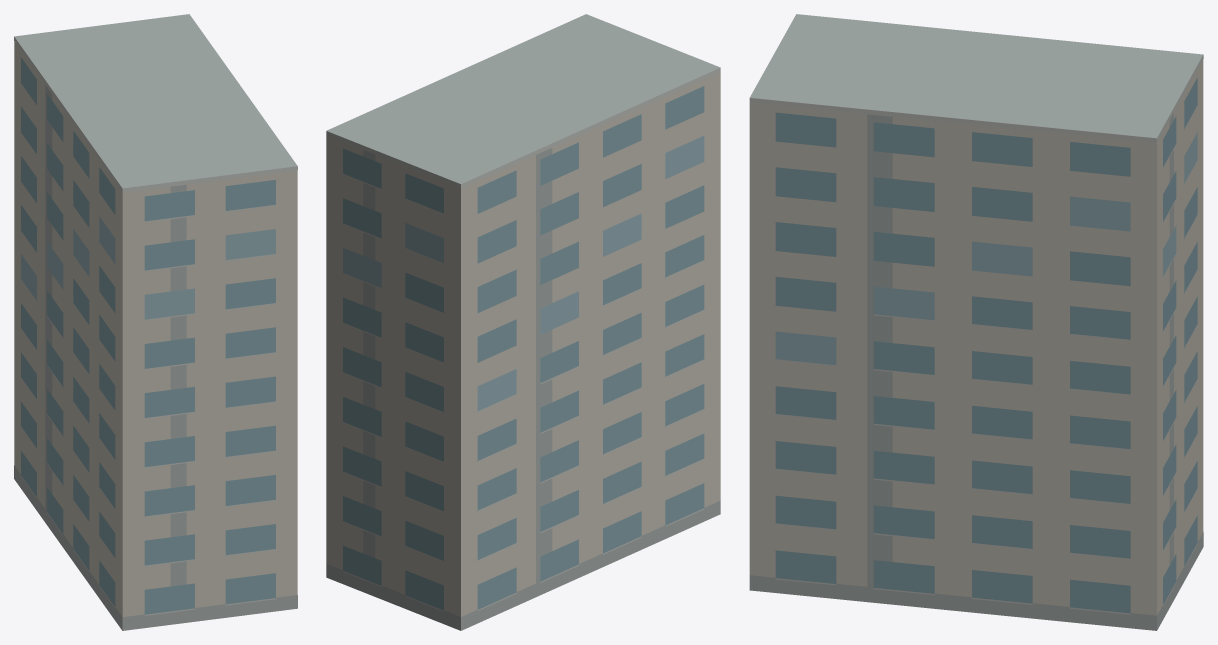
The model's file is residential-ab38fa56-697a-4365-951e-fae3d06828a1.glb.
3 renders of one model, left to right at view 1: azimuth 30°, elevation 25°; view 2: azimuth 150°, elevation 25°; view 3: azimuth 270°, elevation 25°, orthographic. The views are drawn at different scales.
Visible parts, largest first — view 1: residential-ab38fa56-697a-4365-951e-fae3d06828a1.tmp; view 2: residential-ab38fa56-697a-4365-951e-fae3d06828a1.tmp; view 3: residential-ab38fa56-697a-4365-951e-fae3d06828a1.tmp.
Part boxes in pixels (<box>): residential-ab38fa56-697a-4365-951e-fae3d06828a1.tmp: <box>14,14,297,630</box>; residential-ab38fa56-697a-4365-951e-fae3d06828a1.tmp: <box>326,14,720,630</box>; residential-ab38fa56-697a-4365-951e-fae3d06828a1.tmp: <box>749,14,1203,630</box>.
Bounding box in the file's own units: 13.54 × 25 × 20.88.
